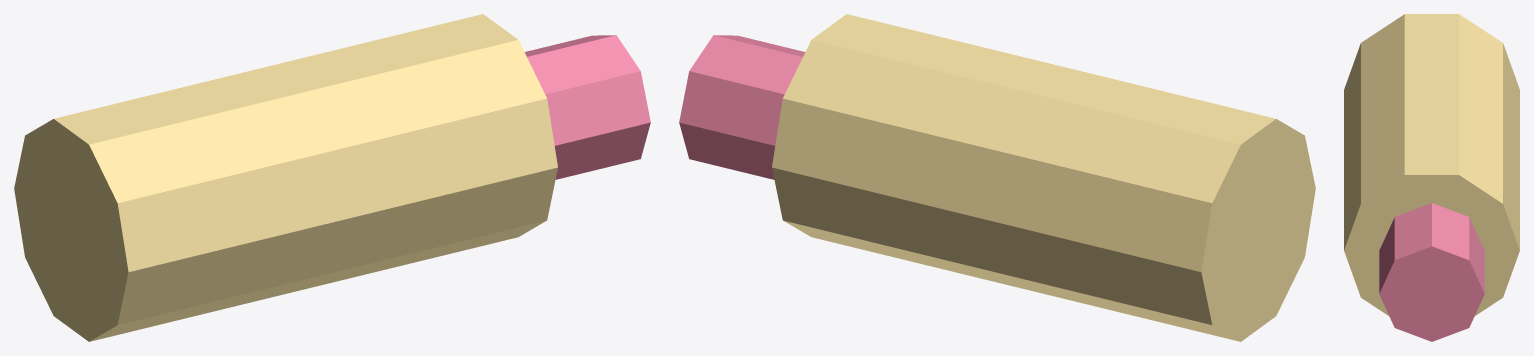
The model's file is DebrisBottle.fbx.
3 renders of one model, left to right at view 1: azimuth 30°, elevation 25°; view 2: azimuth 150°, elevation 25°; view 3: azimuth 270°, elevation 25°, orthographic. The views are drawn at different scales.
Visible parts, largest first — view 1: DebrisBottle; view 2: DebrisBottle; view 3: DebrisBottle.
Part boxes in pixels (x1=…): DebrisBottle: x1=14, y1=14, x2=650, y2=341; DebrisBottle: x1=679, y1=14, x2=1315, y2=341; DebrisBottle: x1=1344, y1=14, x2=1519, y2=341.
Size of the model in its own units: 0.165 by 0.0571 by 0.06.
